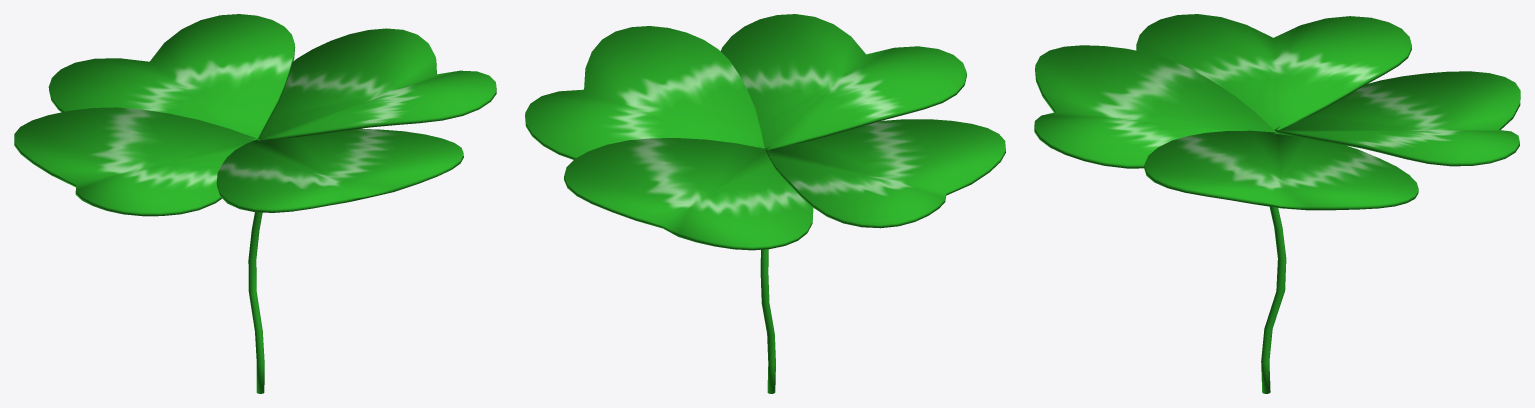
The model's file is Clover3.fbx.
3 renders of one model, left to right at view 1: azimuth 30°, elevation 25°; view 2: azimuth 150°, elevation 25°; view 3: azimuth 270°, elevation 25°, orthographic. The views are drawn at different scales.
Parts seen in each view (by area): view 1: Circle, Circle.001; view 2: Circle, Circle.001; view 3: Circle, Circle.001.
Boxes of the visible parts, x1,y1,x2,y2 form: Circle: [14, 14, 496, 216]; Circle.001: [248, 212, 264, 393]; Circle: [525, 14, 1005, 250]; Circle.001: [760, 249, 775, 393]; Circle: [1034, 14, 1520, 210]; Circle.001: [1261, 206, 1286, 393].
Bounding box in the file's own units: 349 × 242 × 349.
1 material, 1 textured.
